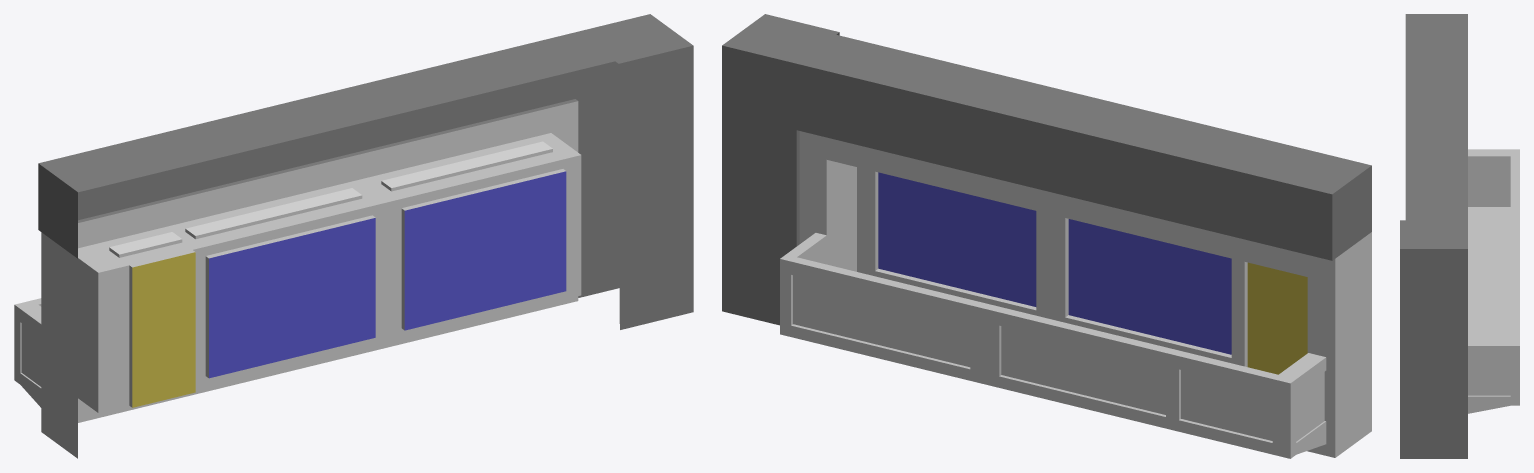
File: BalconyFacadeNoBaseA.fbx
3 views of the same model, side by side, from view 1: azimuth 30°, elevation 25°; view 2: azimuth 150°, elevation 25°; view 3: azimuth 270°, elevation 25° (orthographic). The views are drawn at different scales.
Parts seen in each view (by area): view 1: Cube; view 2: Cube; view 3: Cube.
Part boxes in pixels (box(x1,y1,x2,y2)): Cube: box(14, 14, 693, 458); Cube: box(722, 14, 1371, 458); Cube: box(1400, 14, 1519, 458).
Bounding box in the file's own units: 961 × 400 × 207.
